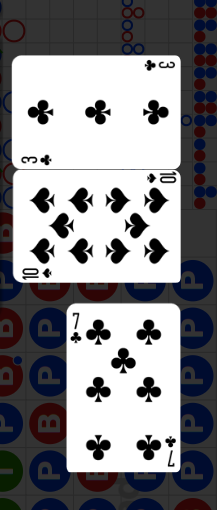10S: (21, 267, 54, 281)
3C: (142, 58, 176, 73)
7C: (163, 433, 178, 468)
